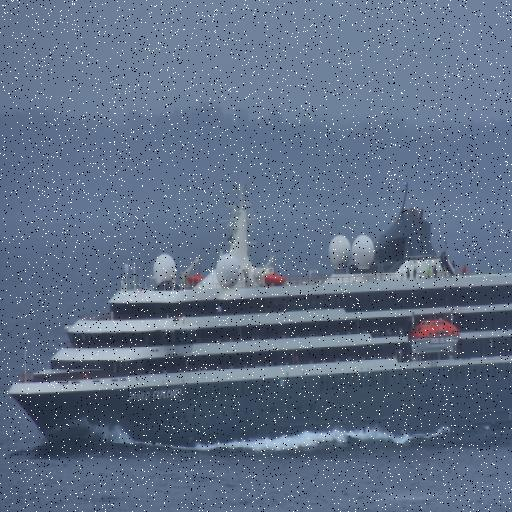cruises: (5, 169, 512, 457)
